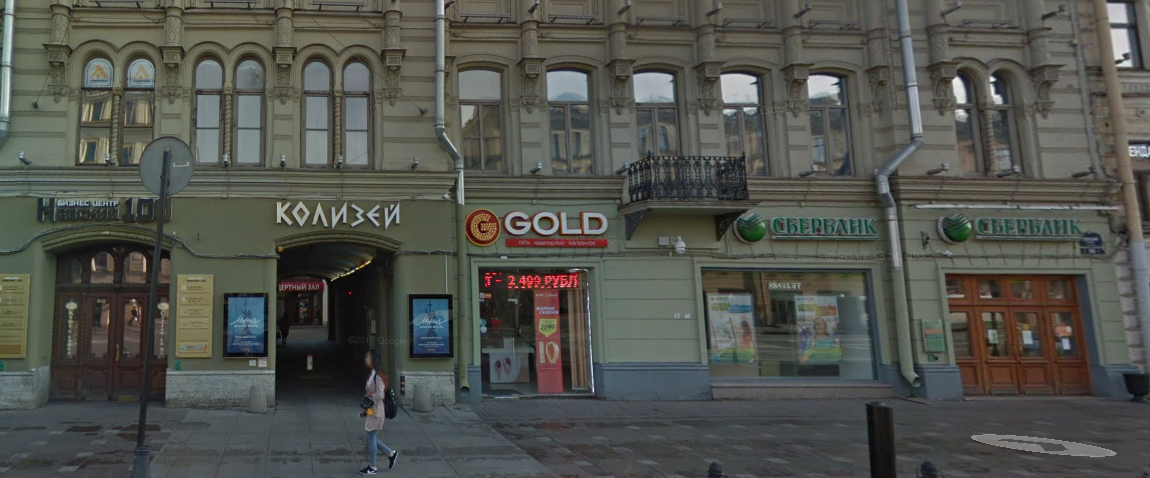arch: (265, 232, 401, 412)
door: (946, 306, 1094, 396), (54, 288, 167, 401)
signboard: (938, 209, 1080, 249), (467, 207, 608, 247), (34, 191, 177, 227), (737, 208, 877, 242), (275, 199, 400, 232)
window: (704, 264, 882, 381), (483, 268, 591, 391), (72, 55, 154, 167), (954, 65, 1032, 177), (189, 58, 264, 166), (297, 54, 369, 166), (722, 71, 778, 179), (546, 65, 598, 172), (808, 68, 857, 180), (637, 69, 686, 179), (462, 58, 506, 171), (53, 247, 172, 282), (946, 275, 1078, 303)
